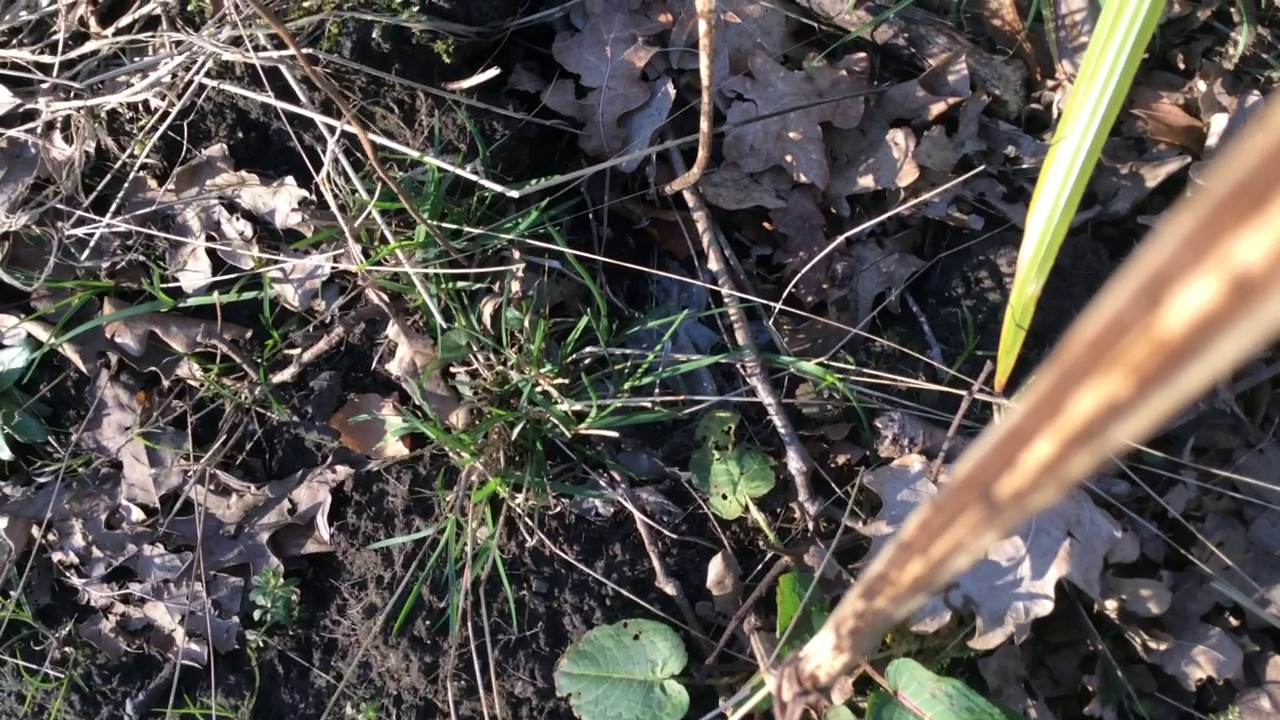rumex: (551, 412, 1011, 720)
